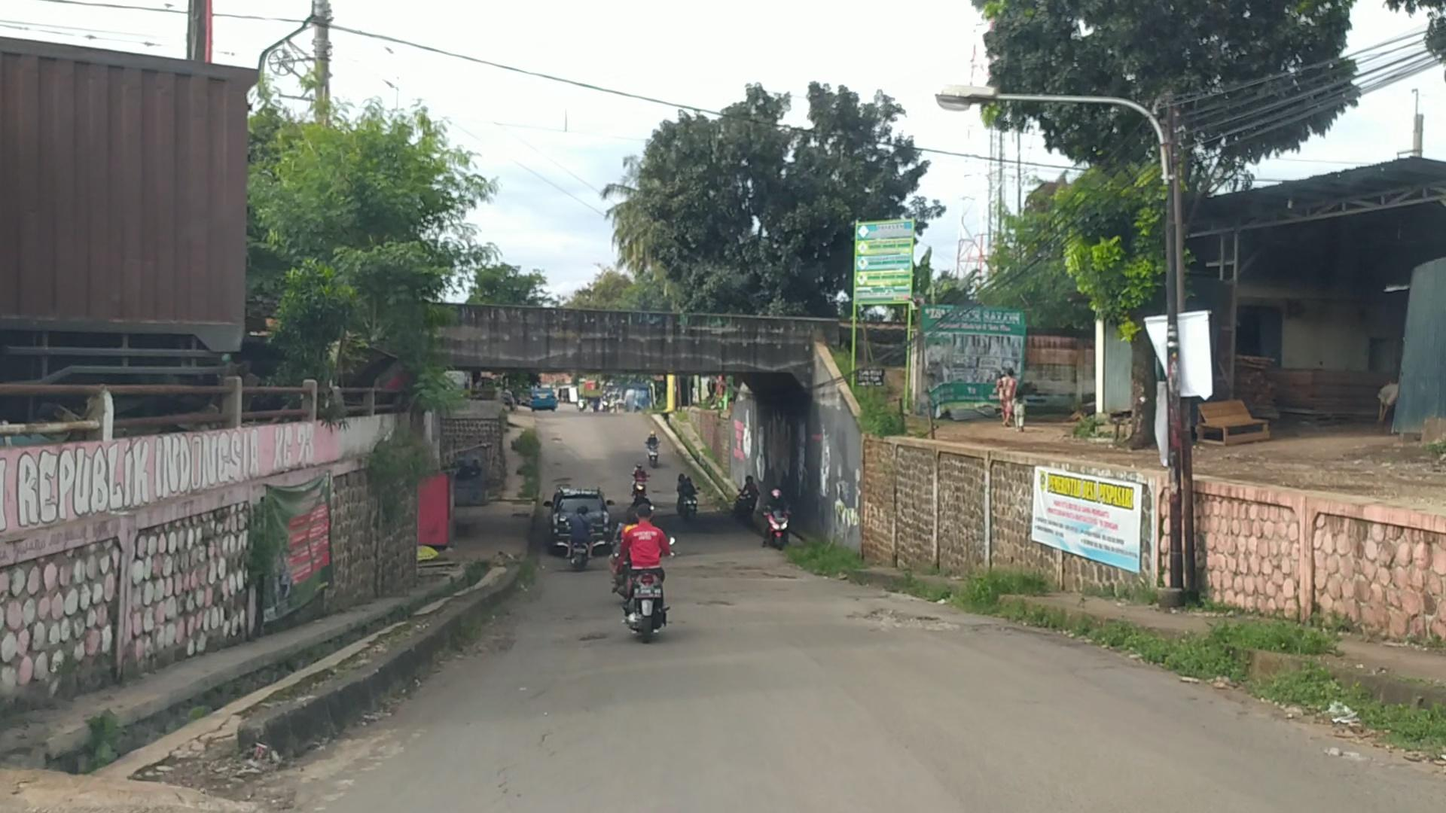pothole: (848, 606, 967, 634), (668, 557, 797, 582), (699, 599, 734, 609), (576, 634, 607, 643)
